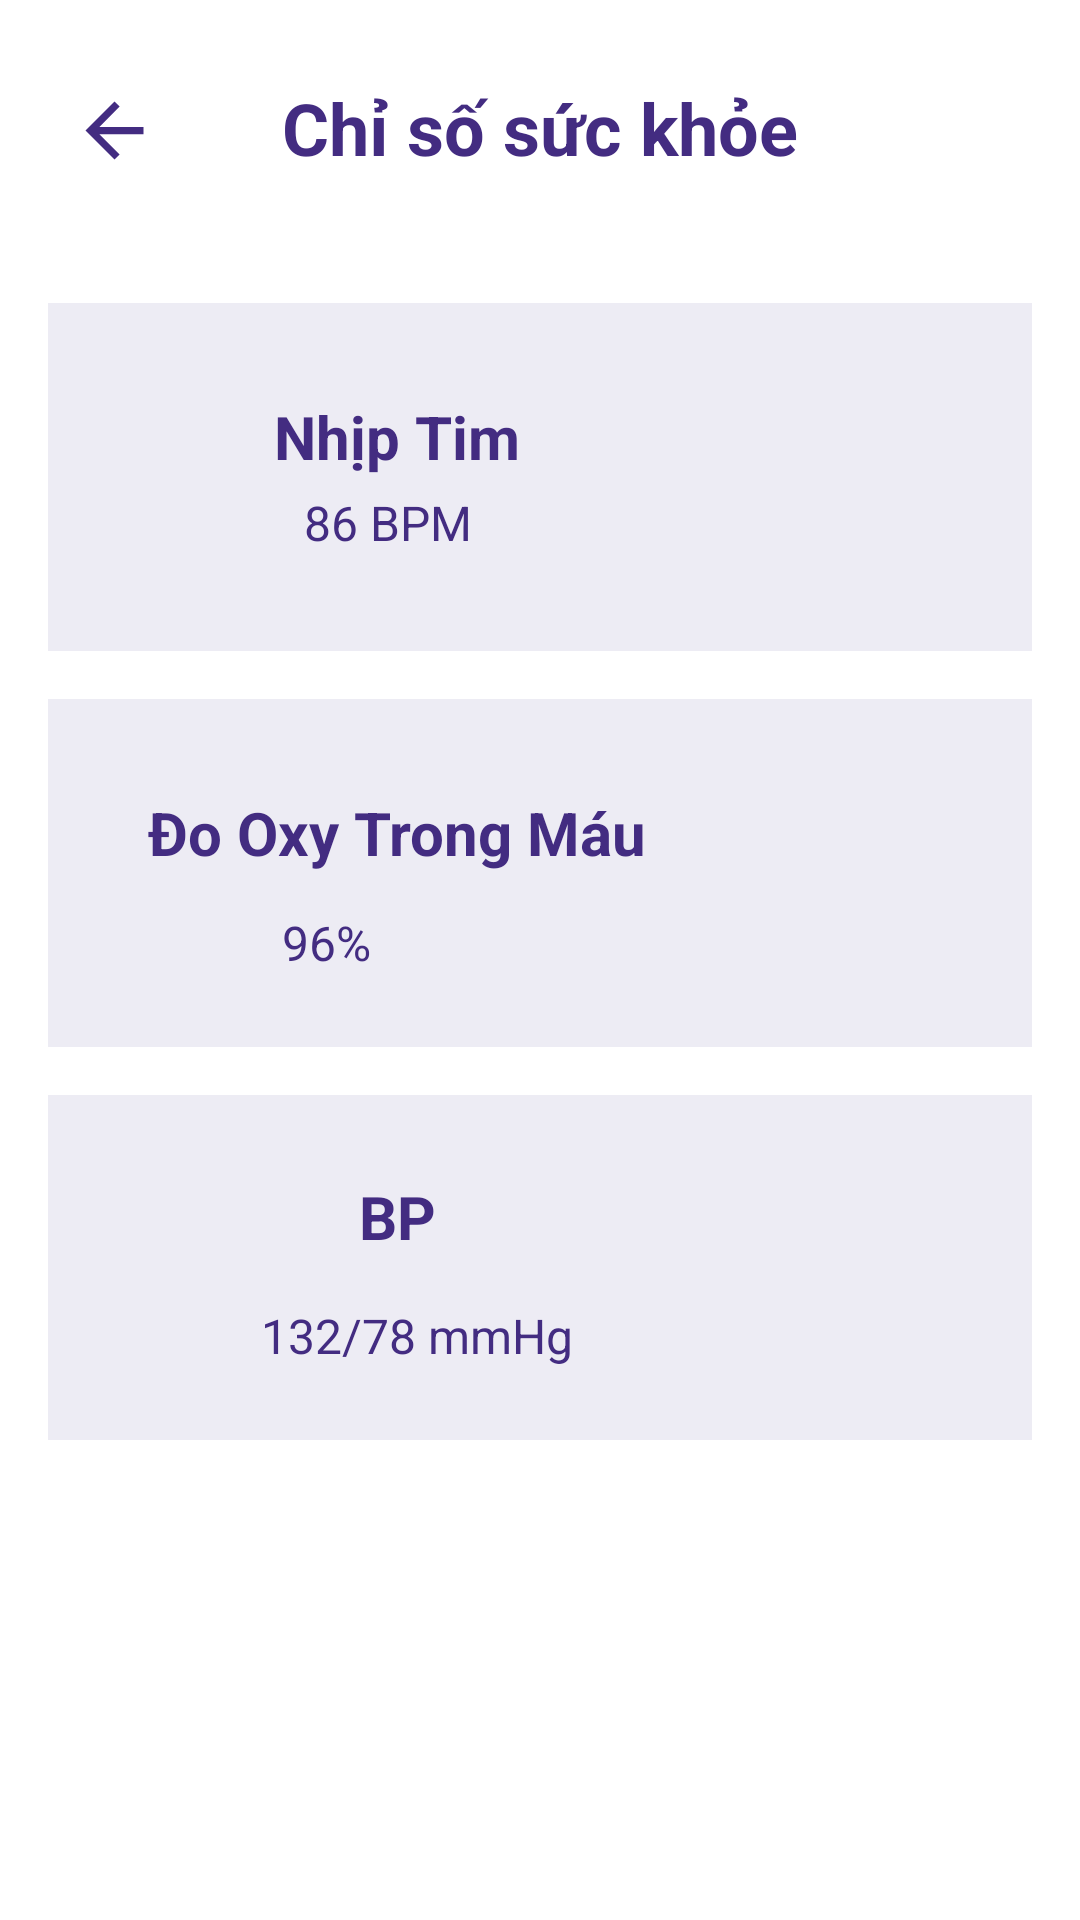

Icons on this 1080px x 1920px Android screen, each with the point to tap as point (x, y):
arrow back: point (114, 130)
